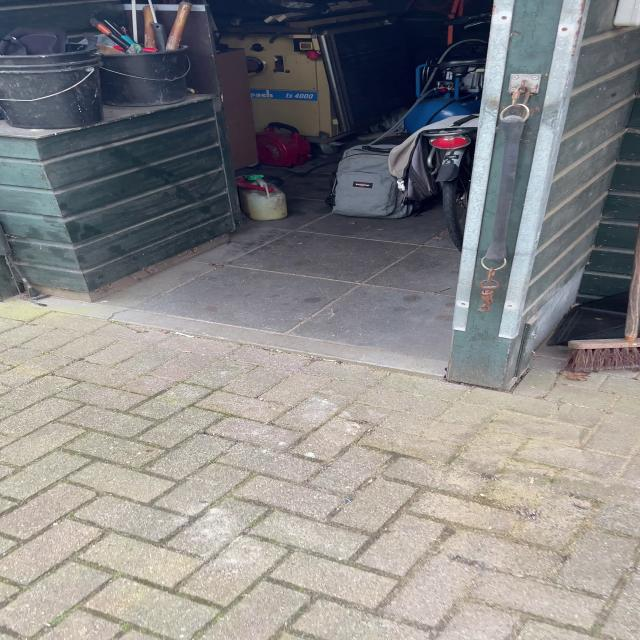backpack: (322, 138, 423, 226)
